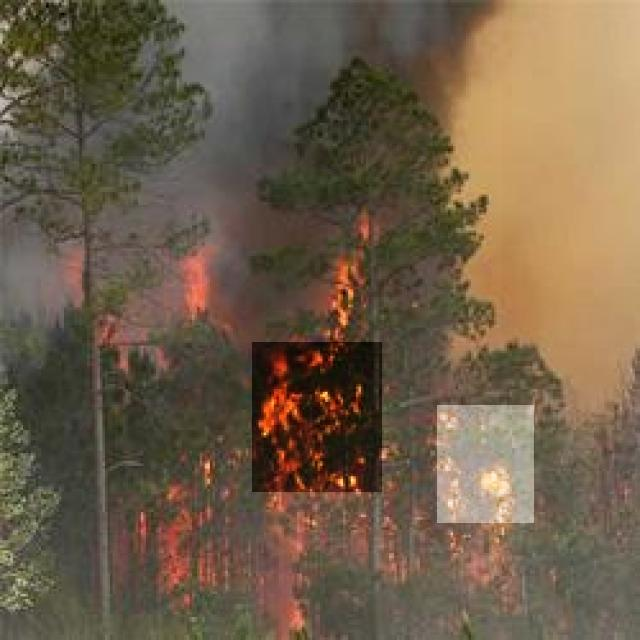Fire: (252, 304, 382, 492), (124, 465, 230, 618), (437, 405, 534, 523), (170, 242, 231, 335)
Smoke: (0, 0, 502, 342)
